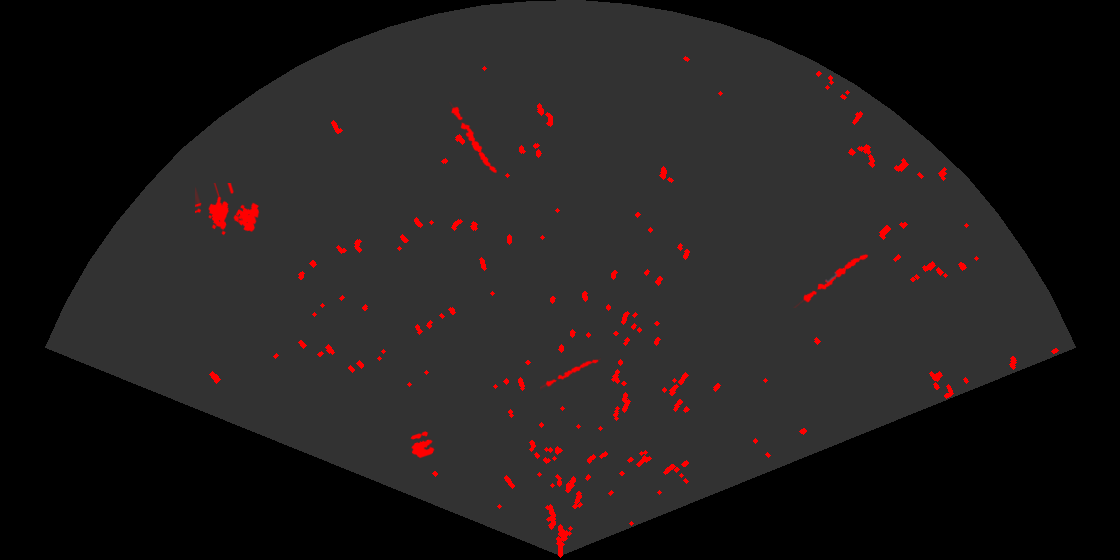ball: (409, 430, 436, 460)
cage: (195, 183, 261, 237)
chain: (793, 252, 870, 308), (448, 102, 499, 175), (540, 357, 601, 391)
